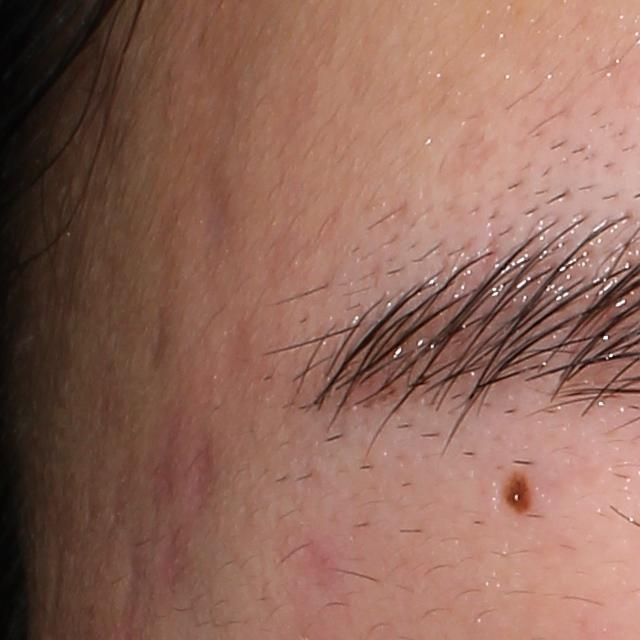atrophic_scar: (191, 140, 235, 279), (140, 198, 171, 385), (144, 396, 172, 520), (190, 420, 223, 511)
nevus: (496, 474, 532, 521)
